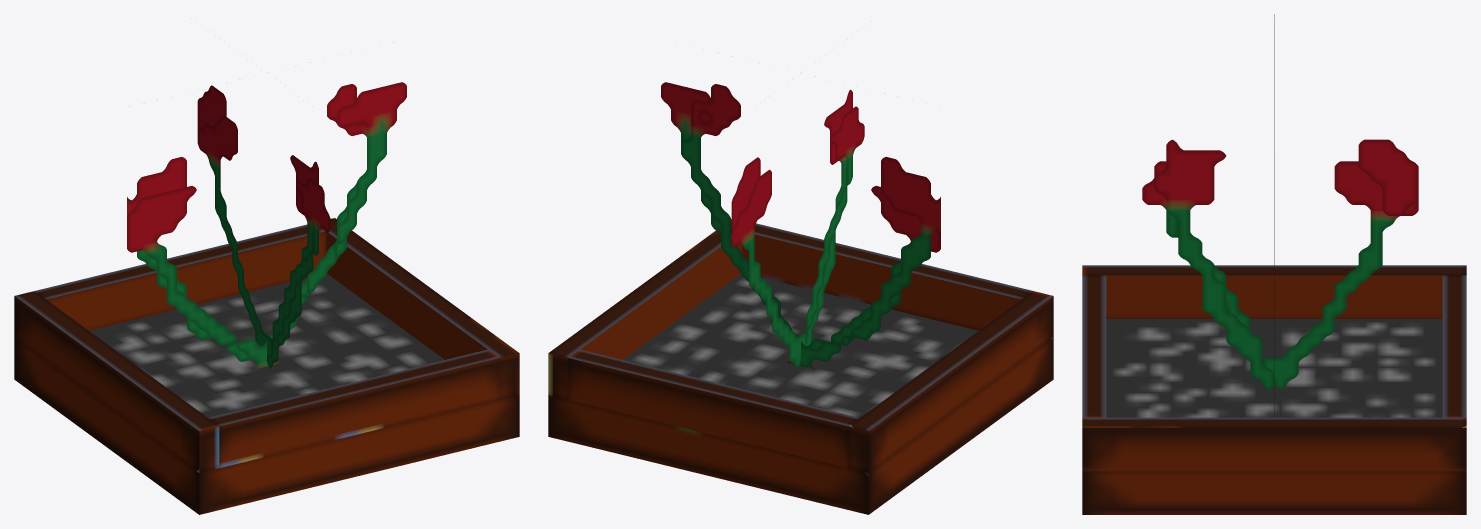
File: planter.obj
3 renders of one model, left to right at view 1: azimuth 30°, elevation 25°; view 2: azimuth 150°, elevation 25°; view 3: azimuth 270°, elevation 25°, orthographic. The views are drawn at different scales.
Parts seen in each view (by area): view 1: cube; view 2: cube; view 3: cube.
Boxes of the visible parts, <box> form: cube: <box>14,82,519,514</box>; cube: <box>548,82,1053,514</box>; cube: <box>1082,14,1466,514</box>.
Bounding box in the file's own units: 1 × 1 × 1.
